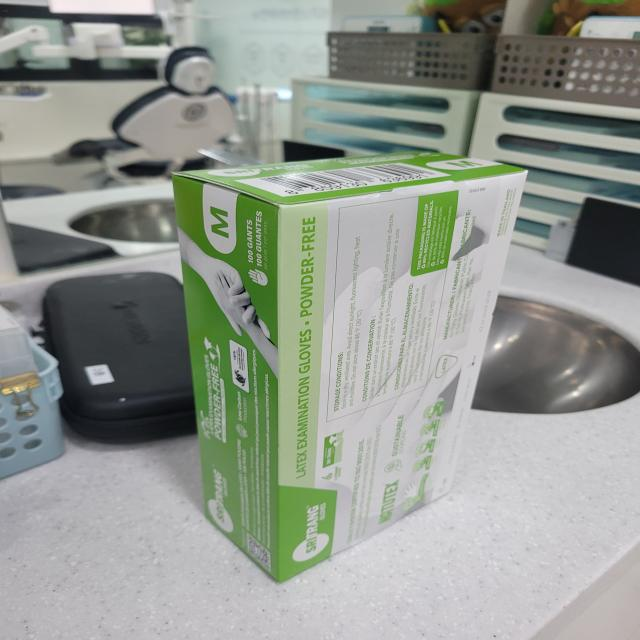glove: (162, 150, 511, 576)
